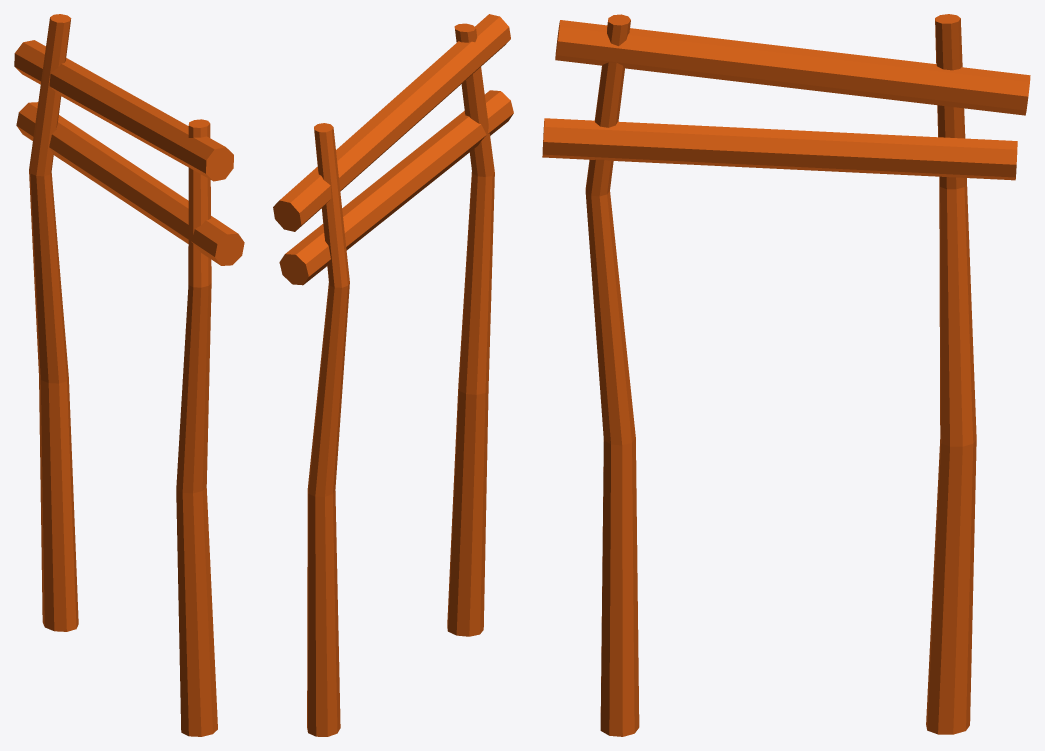
Rendered from madero_marco.fbx.
The picture shows the model from 3 angles, left to right: view 1: azimuth 30°, elevation 25°; view 2: azimuth 150°, elevation 25°; view 3: azimuth 270°, elevation 25°; orthographic projection. The views are drawn at different scales.
Parts seen in each view (by area): view 1: Cylinder.001, Cylinder, Cylinder.002, Cylinder.003; view 2: Cylinder, Cylinder.001, Cylinder.003, Cylinder.002; view 3: Cylinder.001, Cylinder, Cylinder.003, Cylinder.002.
Boxes of the visible parts, x1=… form: Cylinder.001: x1=29, y1=14, x2=78, y2=631; Cylinder: x1=176, y1=119, x2=217, y2=736; Cylinder.002: x1=16, y1=102, x2=244, y2=265; Cylinder.003: x1=14, y1=40, x2=233, y2=181; Cylinder: x1=447, y1=23, x2=494, y2=636; Cylinder.001: x1=307, y1=123, x2=349, y2=736; Cylinder.003: x1=273, y1=14, x2=510, y2=231; Cylinder.002: x1=279, y1=90, x2=513, y2=285; Cylinder.001: x1=926, y1=14, x2=976, y2=734; Cylinder: x1=585, y1=14, x2=639, y2=736; Cylinder.003: x1=555, y1=20, x2=1030, y2=115; Cylinder.002: x1=542, y1=118, x2=1017, y2=180.
Size of the model in its own units: 23.77 by 315 by 196.
